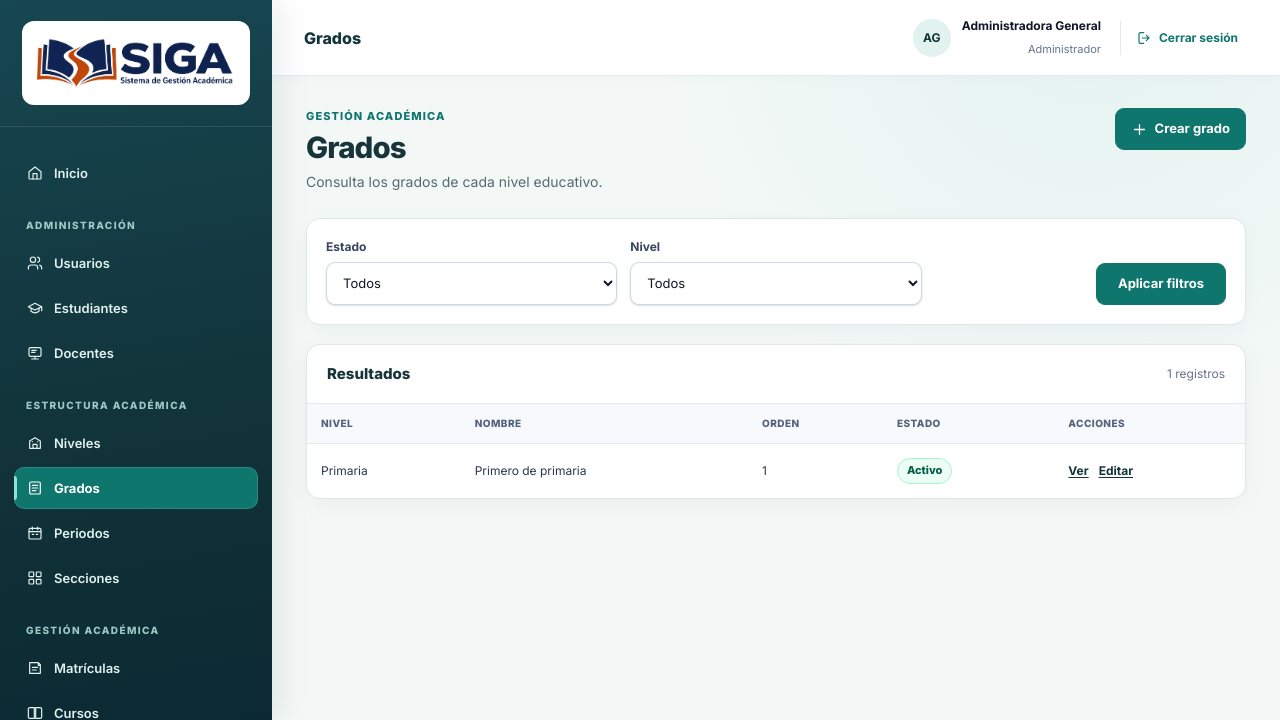
Test: la respuesta tardía de Secundaria no reemplaza la selección posterior de Primaria
Expected: the text "Primero de primaria" is shown, [461,444,748,498]
Select "Secundaria" in the dropdown labelled "Nivel" at (776, 284), box [630,262,922,305]
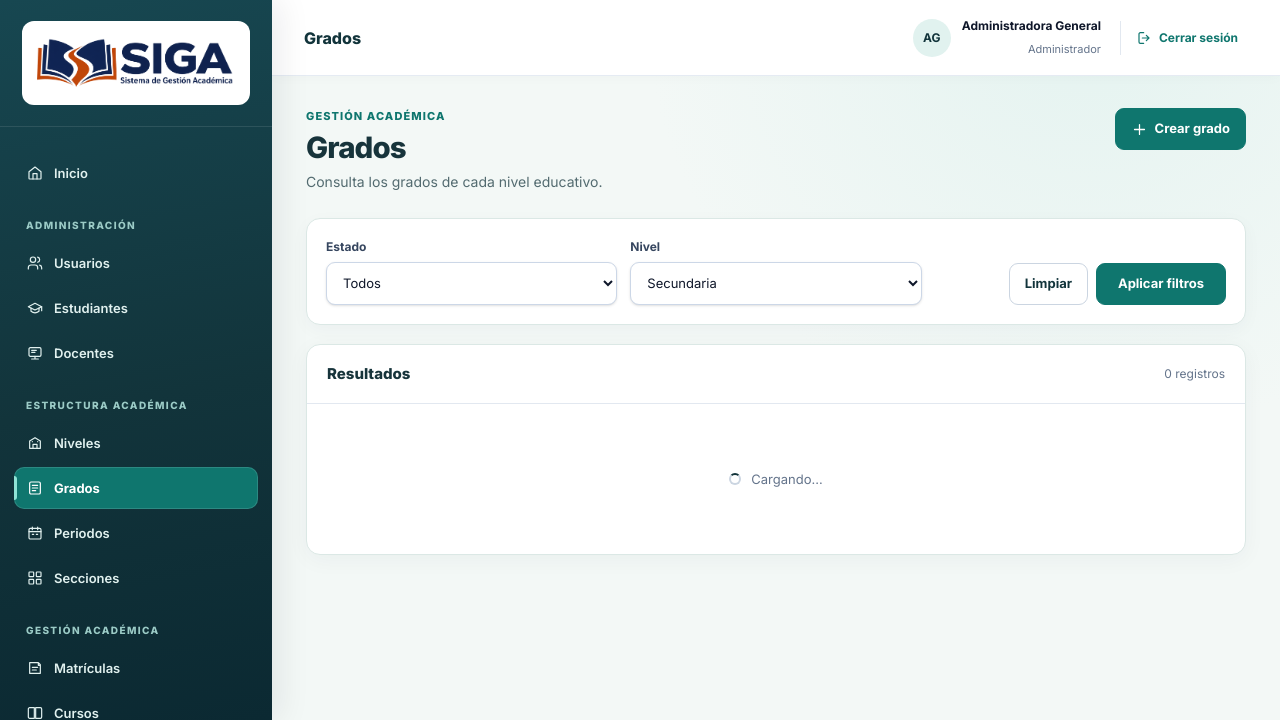
Select "Primaria" in the dropdown labelled "Nivel" at (776, 284), box [630,262,922,305]
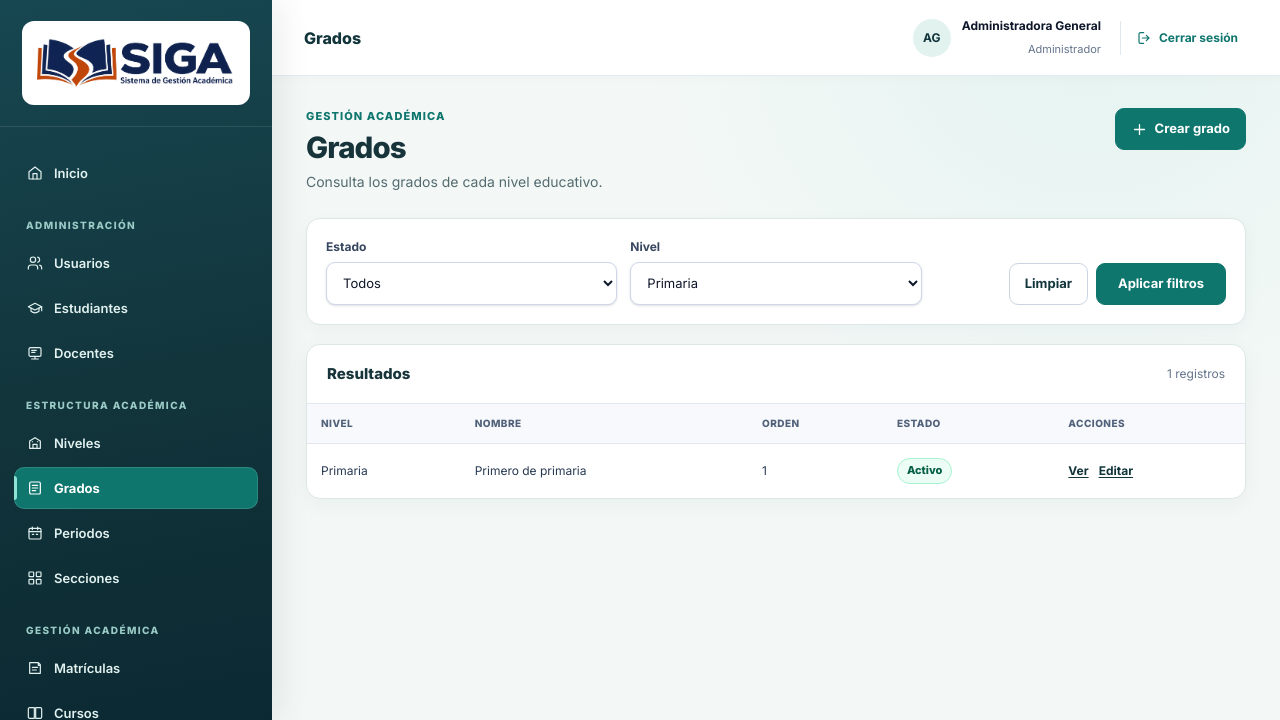
Expected: the text "Primero de primaria" is shown, [461,444,748,498]
